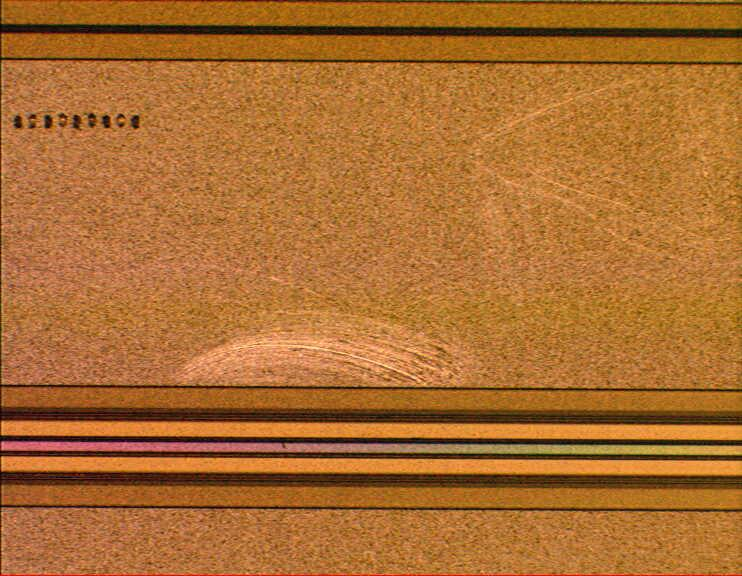SCRATCH: (159, 71, 728, 399)
